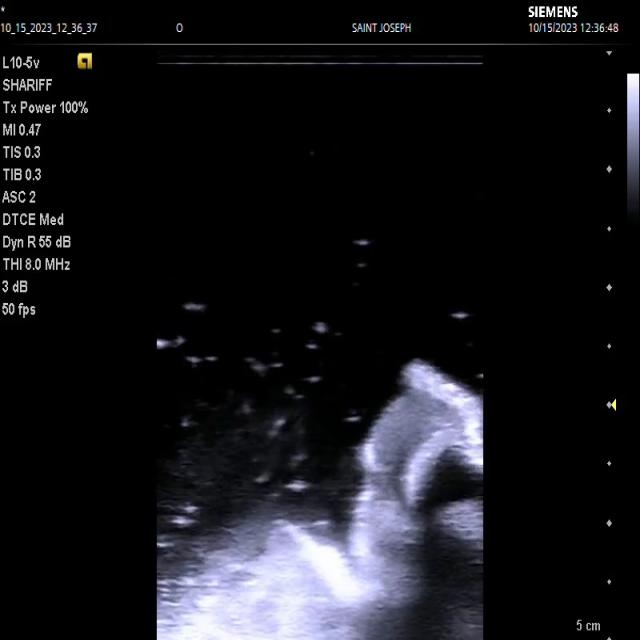tissue: (157, 362, 482, 640)
